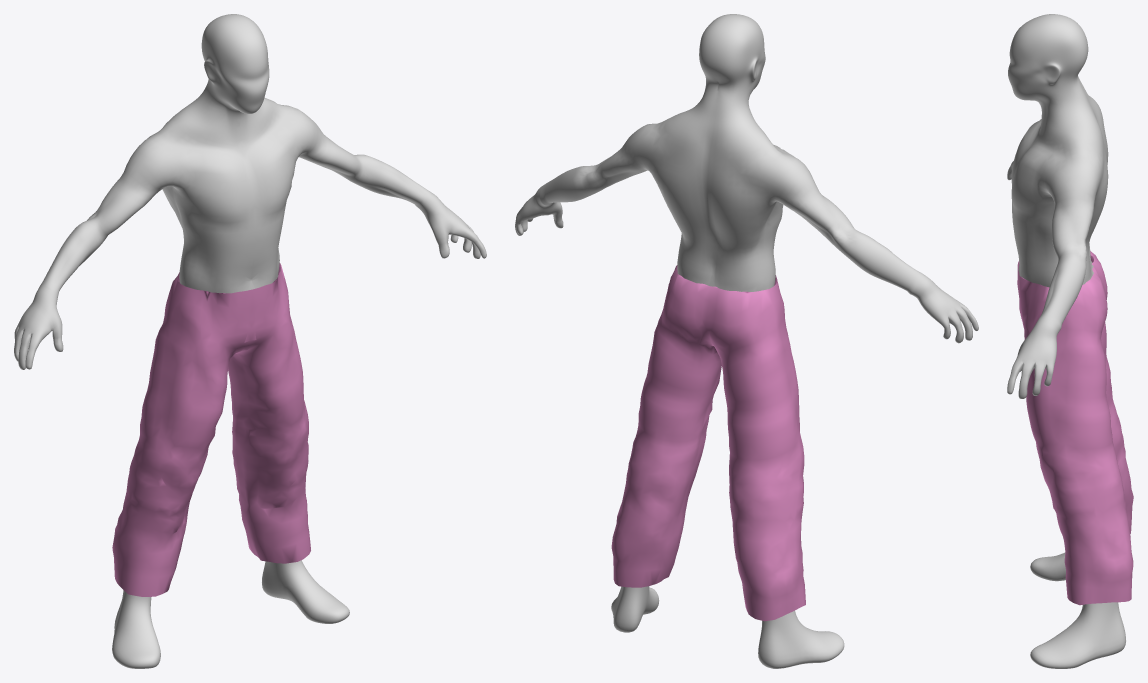
The model's file is pants.fbx.
3 views of the same model, side by side, from view 1: azimuth 30°, elevation 25°; view 2: azimuth 150°, elevation 25°; view 3: azimuth 270°, elevation 25° (orthographic). The views are drawn at different scales.
Visible parts, largest first — view 1: bottom, top; view 2: top, bottom; view 3: bottom, top.
Boxes of the visible parts, x1,y1,x2,y2 form: bottom: (14,14,486,668); top: (112,263,310,596); top: (611,265,805,621); bottom: (515,14,978,668); bottom: (1007,14,1125,668); top: (1017,251,1133,605).
Bounding box in the file's own units: 462 × 598 × 114.
